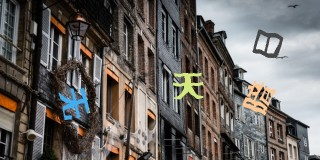天: (171, 69, 205, 102)
无: (57, 85, 91, 123)
日: (250, 27, 284, 59)
暗: (242, 80, 274, 116)
